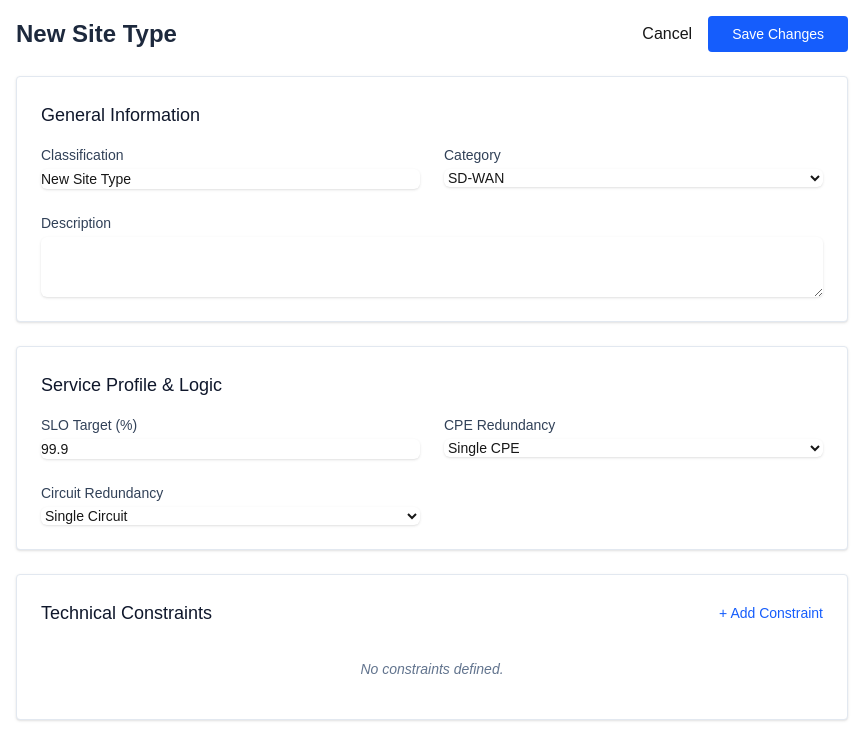
Test: Site Definition Redundancy UI › hides redundancy settings when category is LAN
Select "LAN" in the dropdown labelled "Category" at (634, 178), box [444, 169, 823, 187]
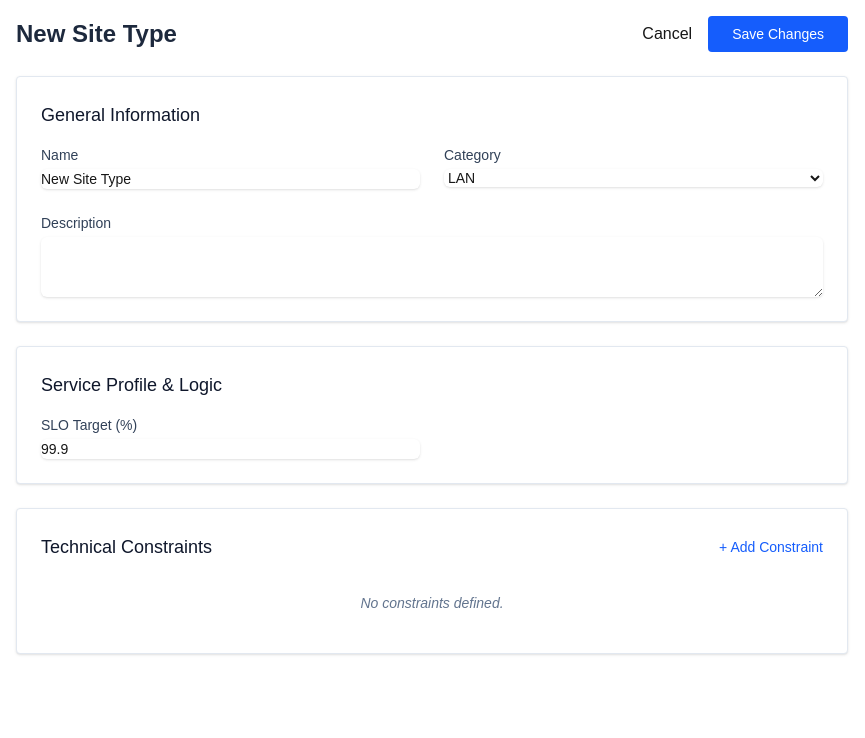
Expected: the text "CPE Redundancy" is gone
Expected: the text "Circuit Redundancy" is gone
